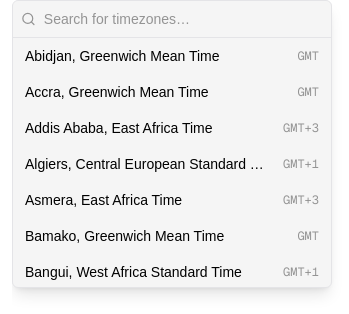
Test case: components/common/datetime-picker/timezone-panel › filters the list as the user types
The width and height of the screenshot is (349, 314).
Type "london" into the field with placeholder "Search for timezones…" at [183, 19], box [44, 9, 323, 29]
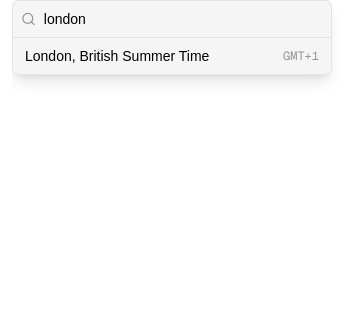
Expected: the button is shown, [13, 38, 331, 74]
